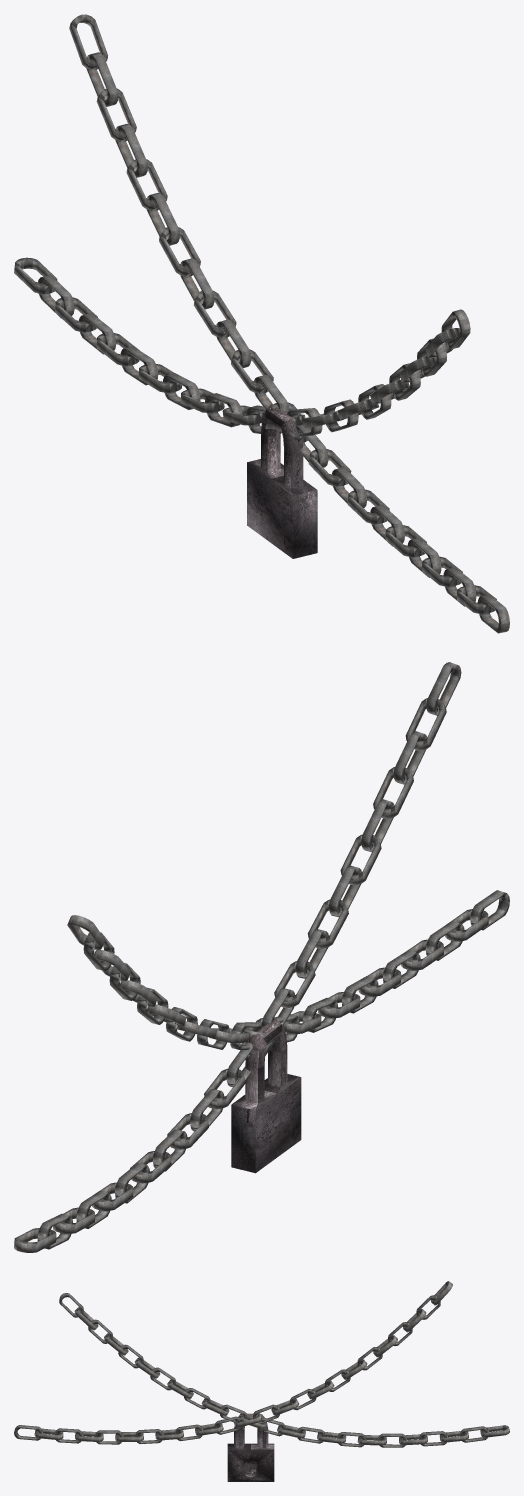
Rendered from cadena.fbx.
The picture shows the model from 3 angles, top to bottom: view 1: azimuth 30°, elevation 25°; view 2: azimuth 150°, elevation 25°; view 3: azimuth 270°, elevation 25°; orthographic projection. The views are drawn at different scales.
Parts seen in each view (by area): view 1: cadena; view 2: cadena; view 3: cadena.
Part boxes in pixels (x1,y1,x2,y2): cadena: (14, 14, 509, 633); cadena: (14, 662, 509, 1252); cadena: (14, 1281, 509, 1481).
Size of the model in its own units: 5.86 by 58.59 by 135.
